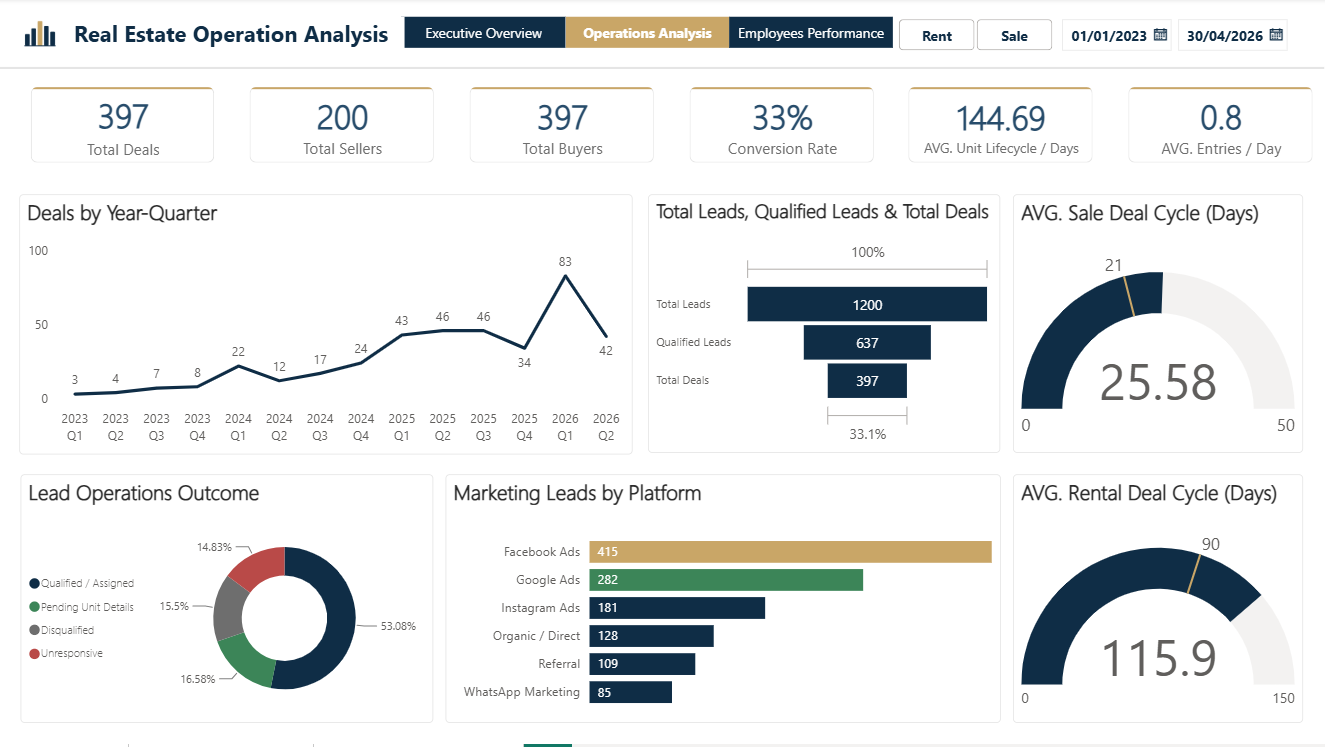

The dashboard page shown, as its layout file describes it:
{"tool":"powerbi","page":{"name":"Operations Analysis","canvas":[1280,720],"ordinal":1},"visuals":[{"type":"image","box":[20,15,40,40],"z":0},{"type":"pageNavigator","box":[390,18,475,30],"z":1000},{"type":"textbox","box":[72,18,320,35],"z":2000},{"type":"shape","box":[0,62,1280,12],"z":3000},{"type":"cardVisual","fields":{"Data":["Measures_P.1.Total Deals"]},"box":[20.5,74.8,199.1,95.3],"z":4000},{"type":"cardVisual","fields":{"Data":["Measures_P.2.Total Sellers"]},"box":[232,75,200,95],"z":5000},{"type":"cardVisual","fields":{"Data":["Measures_P.2.Total Buyers"]},"box":[444,75,200,95],"z":6000},{"type":"cardVisual","fields":{"Data":["Measures_P.2.Avg Unit Lifecycle (Days)"]},"box":[868,75,200,95],"z":7000},{"type":"cardVisual","fields":{"Data":["Measures_P.2.Conversion Rate"]},"box":[656,75,200,95],"z":8000},{"type":"cardVisual","fields":{"Data":["Measures_P.2.Avg Entries per Working Day"]},"box":[1080,75,200,95],"z":9000},{"type":"lineChart","title":"Deals by Year-Quarter","fields":{"Y":["Measures_P.1.Total Deals"],"Category":["Dim_Date.YearQuarter"]},"box":[20.5,189.4,592.4,250.9],"z":10000},{"type":"gauge","title":"AVG. Sale Deal Cycle (Days)","fields":{"Y":["Measures_P.2.Avg Deal Life Cycle (Days)"],"TargetValue":["Measures_P.2.Target Deal Cycle"]},"box":[979.6,189.4,279.9,249.7],"z":11000},{"type":"gauge","title":"AVG. Rental Deal Cycle (Days)","fields":{"Y":["Measures_P.2.Avg Rental Deal Cycle (Days)"]},"box":[979.6,459.7,279.9,240.1],"z":12000},{"type":"barChart","title":"Marketing Leads by Platform","fields":{"Category":["Dim_Marketing_Leads.Platform"],"Y":["CountNonNull(Dim_Marketing_Leads.LeadID)"]},"box":[431.9,459.7,535.7,240.1],"z":13000},{"type":"funnel","title":"Total Leads, Qualified Leads & Total Deals","fields":{"Y":["Measures_P.1.Total Leads","Measures_P.2.Qualified Leads Count","Measures_P.1.Total Deals"]},"box":[627.3,189.4,340.2,249.7],"z":14000},{"type":"slicer","fields":{"Values":["Dim_Date.Date"]},"box":[1018,15.8,240,43.4],"z":15000},{"type":"advancedSlicerVisual","fields":{"Values":["Dim_Properties.DealCategory"]},"box":[868.6,20,150.8,30],"z":16000},{"type":"donutChart","title":"Lead Operations Outcome","fields":{"Category":["Fact_Leads_Operations.OperationStatus"],"Y":["CountNonNull(Fact_Leads_Operations.OperationID)"]},"box":[21.7,459.7,398.1,240.1],"z":17000}]}

Visuals, with their boxes in screenshot pixels (x1, y1, x2, y2), scaled from the page's 1280x720 canvas onto the 1325x747 screenshot:
image: (left=21, top=16, right=62, bottom=57)
pageNavigator: (left=404, top=19, right=895, bottom=50)
textbox: (left=75, top=19, right=406, bottom=55)
shape: (left=0, top=64, right=1324, bottom=77)
cardVisual - Measures_P.1.Total Deals: (left=21, top=78, right=227, bottom=176)
cardVisual - Measures_P.2.Total Sellers: (left=240, top=78, right=447, bottom=176)
cardVisual - Measures_P.2.Total Buyers: (left=460, top=78, right=667, bottom=176)
cardVisual - Measures_P.2.Avg Unit Lifecycle (Days): (left=899, top=78, right=1106, bottom=176)
cardVisual - Measures_P.2.Conversion Rate: (left=679, top=78, right=886, bottom=176)
cardVisual - Measures_P.2.Avg Entries per Working Day: (left=1118, top=78, right=1324, bottom=176)
"Deals by Year-Quarter" lineChart: (left=21, top=197, right=634, bottom=457)
"AVG. Sale Deal Cycle (Days)" gauge: (left=1014, top=197, right=1304, bottom=456)
"AVG. Rental Deal Cycle (Days)" gauge: (left=1014, top=477, right=1304, bottom=726)
"Marketing Leads by Platform" barChart: (left=447, top=477, right=1002, bottom=726)
"Total Leads, Qualified Leads & Total Deals" funnel: (left=649, top=197, right=1002, bottom=456)
slicer - Dim_Date.Date: (left=1054, top=16, right=1302, bottom=61)
advancedSlicerVisual - Dim_Properties.DealCategory: (left=899, top=21, right=1055, bottom=52)
"Lead Operations Outcome" donutChart: (left=22, top=477, right=435, bottom=726)
